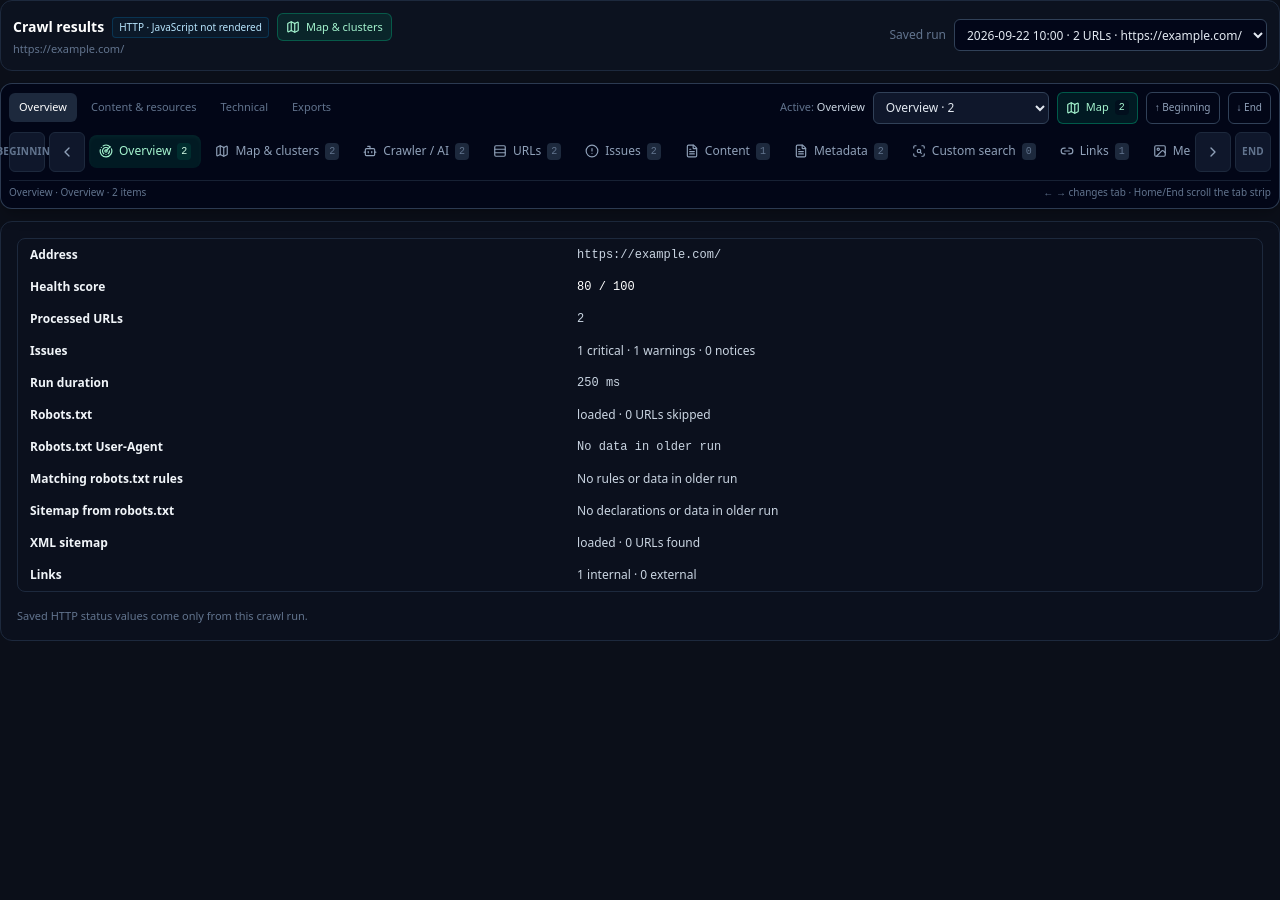
Test: CrawlResultsTabs › exposes the local crawler and AI readiness panel from the grouped results tabs
Click the tab "Crawler / AI 2".
click(416, 151)  # box [353,135,479,168]
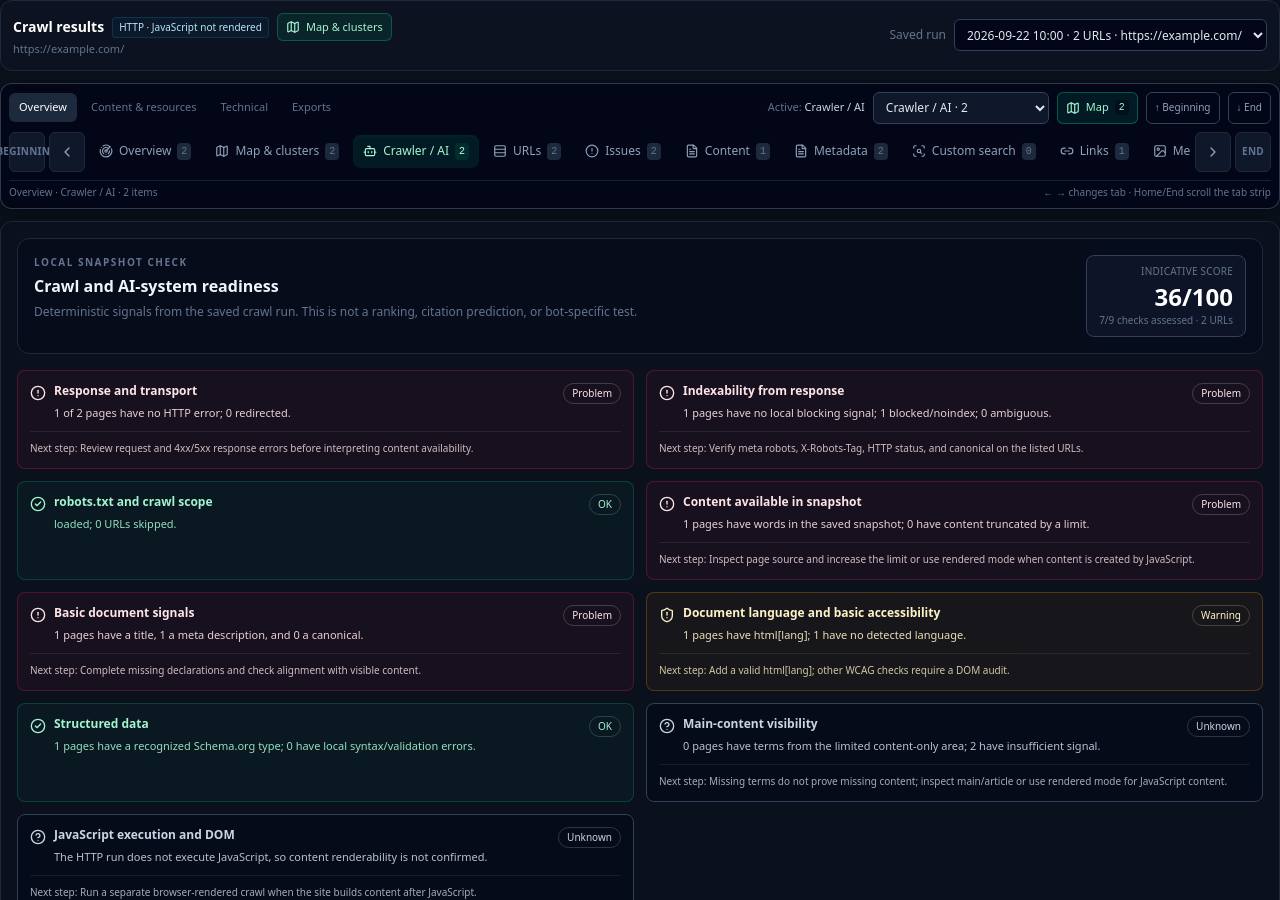
Expected: the heading "Crawl and AI-system readiness" is shown, [34,274,279,296]
Expected: the text "Indicative score" is shown, [1141,264,1233,278]
Expected: the text "The HTTP run does not execute JavaScript, so content renderability is not confirmed." is shown, [54,848,487,864]
